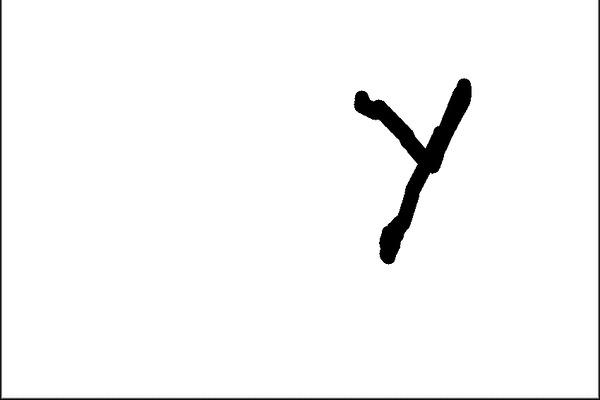Y: (345, 66, 482, 272)
